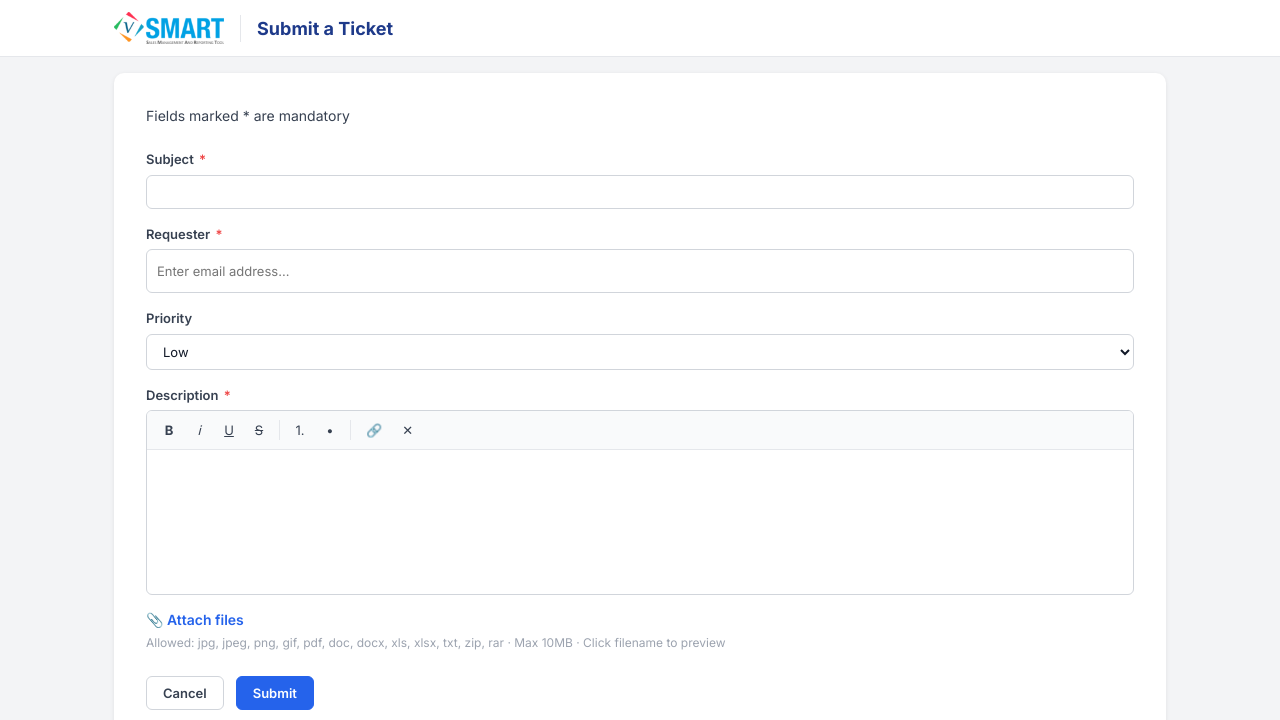
SubmitTicket › shows validation errors when submitting empty form
Step 1. Click the button "Submit" → (275, 693), box x1=236 y1=676 x2=314 y2=710
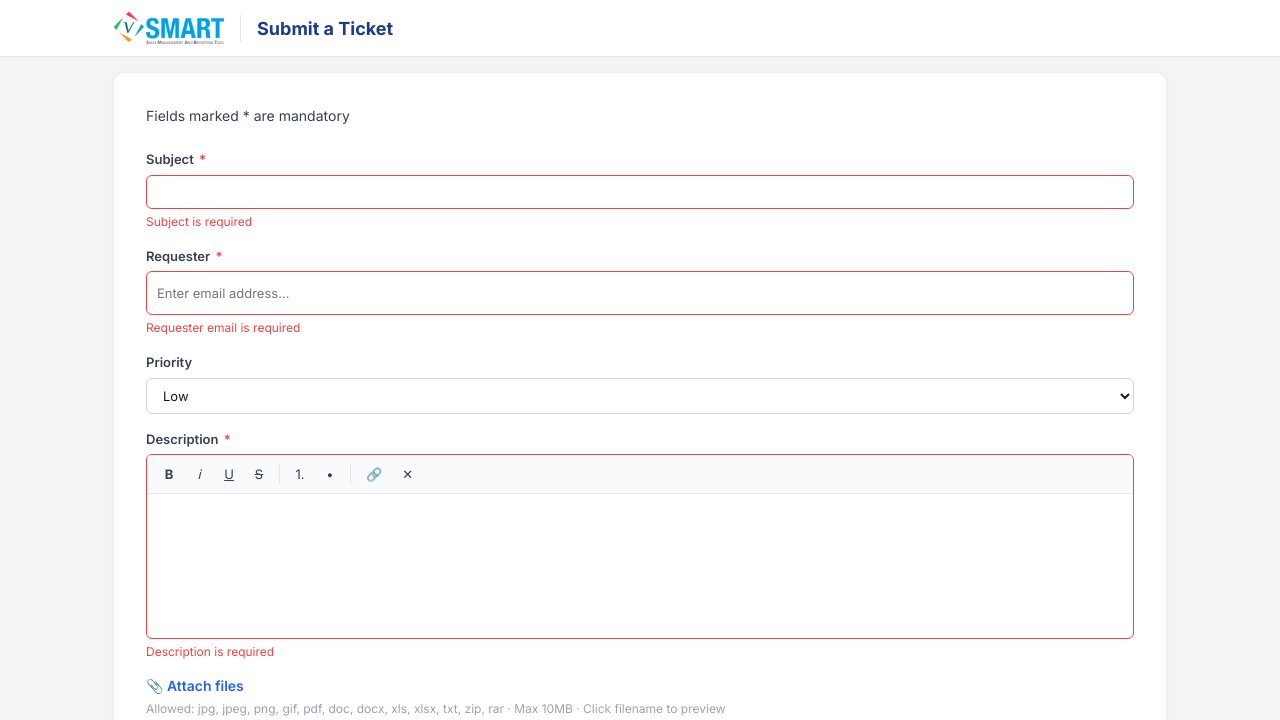
Expected: the text "Subject is required" is shown, x1=146 y1=214 x2=252 y2=228
Expected: the text "Requester email is required" is shown, x1=146 y1=320 x2=300 y2=335
